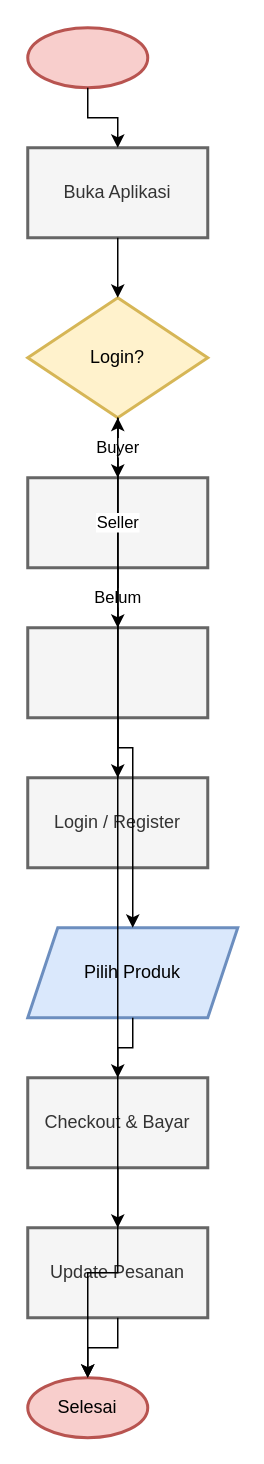
This 264x1464 diagram has some shape labels left out. The shapes that lost their labels are listed below. From the top down, each one's box as (x1, y1, x2, y2) in pixels, then its label:
(26, 26, 148, 88): Mulai
(26, 476, 208, 568): Dashboard Buyer
(26, 626, 208, 718): Dashboard Seller
